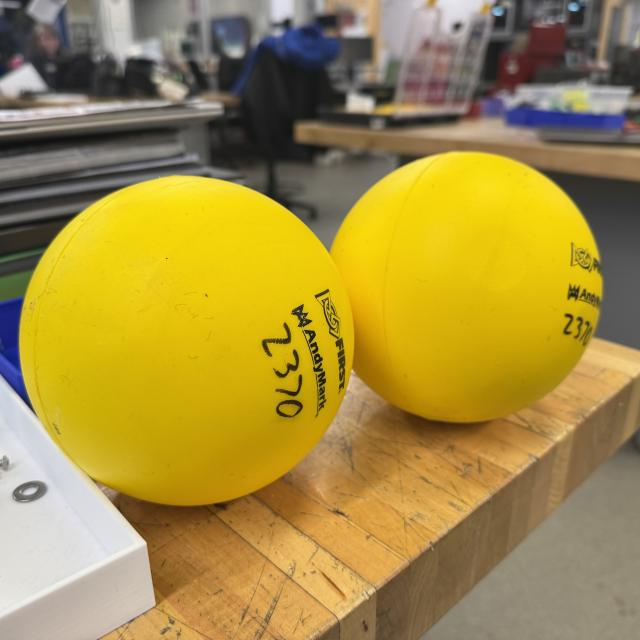Fuel: (19, 174, 356, 506), (327, 150, 604, 424)
